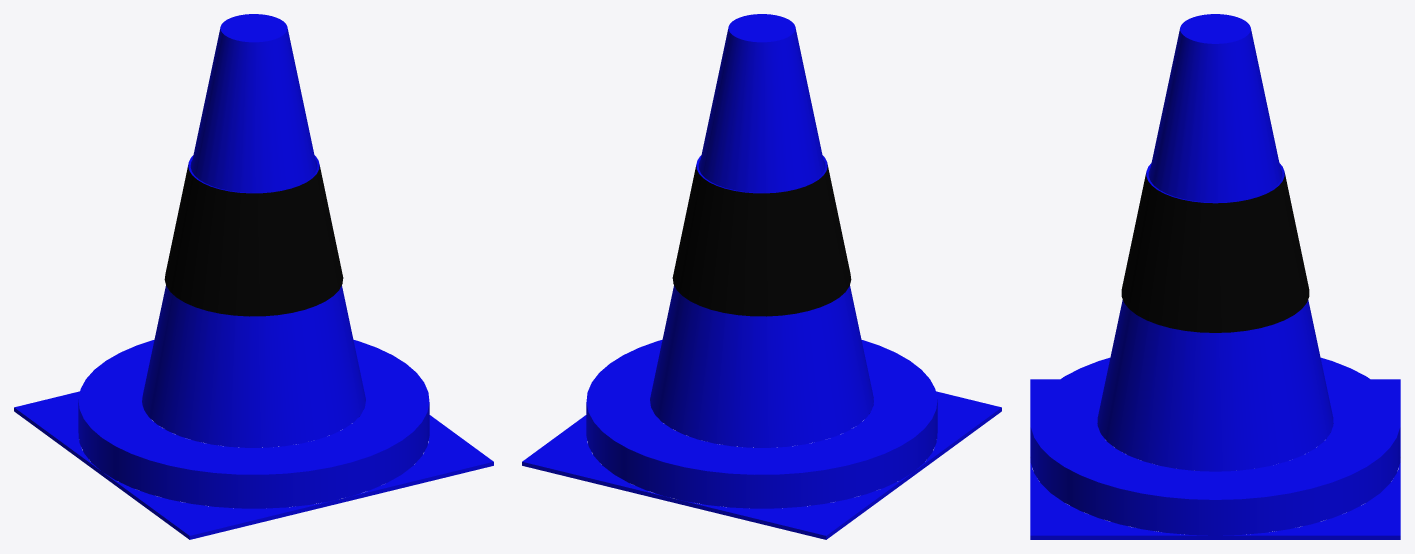
File: blue_cone.dae
3 renders of one model, left to right at view 1: azimuth 30°, elevation 25°; view 2: azimuth 150°, elevation 25°; view 3: azimuth 270°, elevation 25°, orthographic. The views are drawn at different scales.
Visible parts, largest first — view 1: 634a8196c4705c6eb7c739af (×6); view 2: 634a8196c4705c6eb7c739af (×6); view 3: 634a8196c4705c6eb7c739af (×7).
Boxes of the visible parts, bbox=[...] form: 634a8196c4705c6eb7c739af (×6): bbox=[14, 14, 493, 539]; 634a8196c4705c6eb7c739af (×6): bbox=[522, 14, 1001, 539]; 634a8196c4705c6eb7c739af (×7): bbox=[1030, 14, 1400, 539].
Size of the model in its own units: 0.235 by 0.235 by 0.303.
